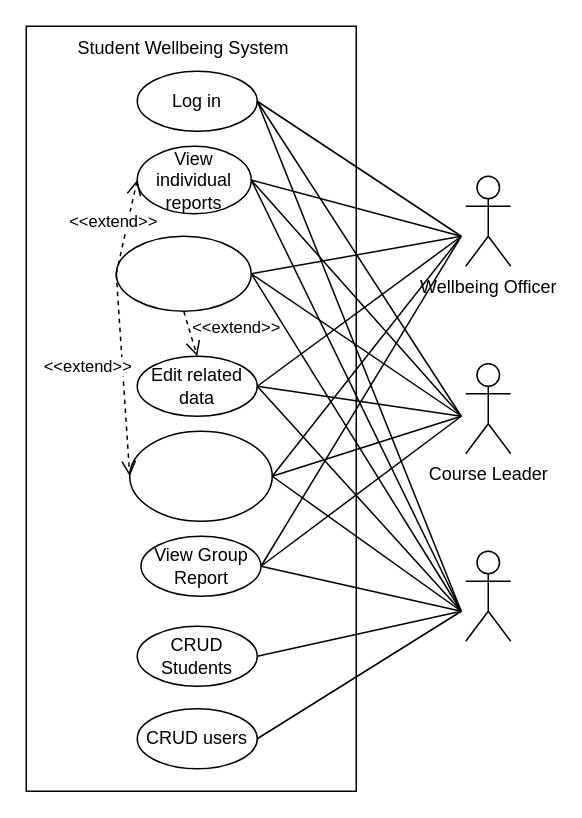
The diagram is 582 pixels wide and 818 high, and some of its shapes have lost their labels. The centre of each missing label's shape, as x and y in pixels:
"Admin" belongs at pixel 487 595.
"Filter Students by warning" belongs at pixel 200 475.
"View student info table" belongs at pixel 183 273.
